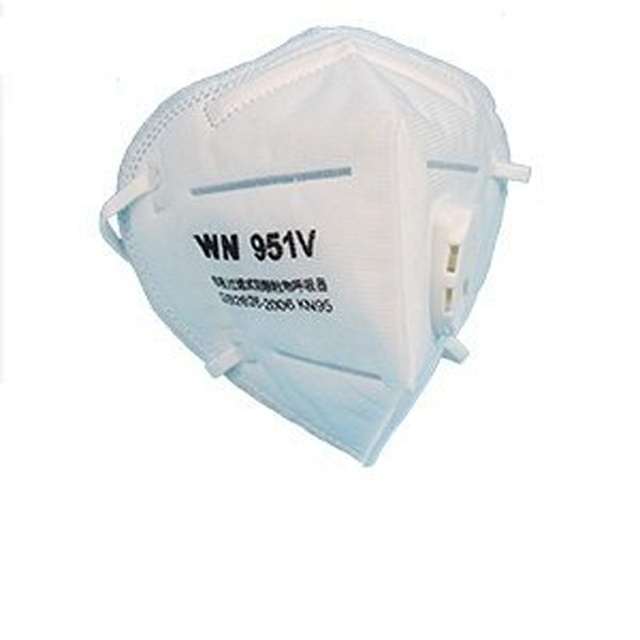mask: (95, 21, 533, 471)
